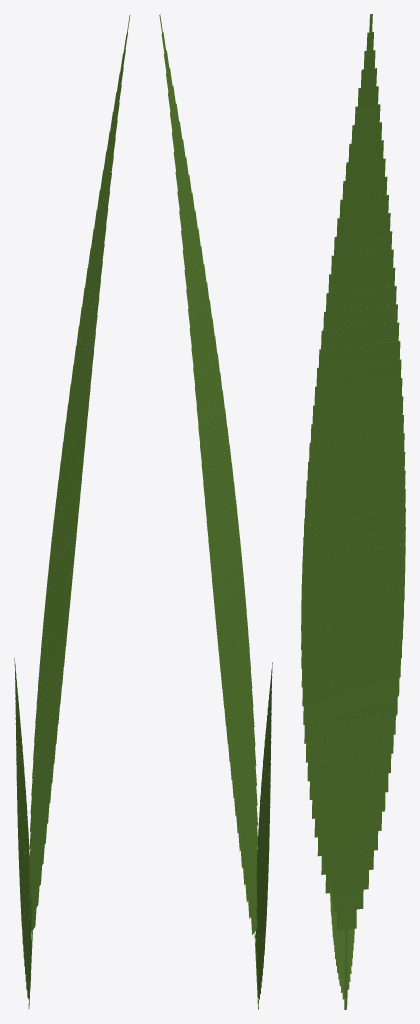
File: maize_001_day_030.dae
The picture shows the model from 3 angles, left to right: view 1: azimuth 30°, elevation 25°; view 2: azimuth 210°, elevation 25°; view 3: azimuth 330°, elevation 25°; orthographic projection. The views are drawn at different scales.
Visible parts, largest first — view 1: node; view 2: node; view 3: node.
Part boxes in pixels (left/top/right/bottom): node: left=14, top=15, right=130, bottom=1009; node: left=159, top=14, right=272, bottom=1009; node: left=301, top=14, right=405, bottom=1009.
Size of the model in its own units: 0.0149 by 0.1749 by 0.0152.
Materials: 1 (1 with a texture image).
